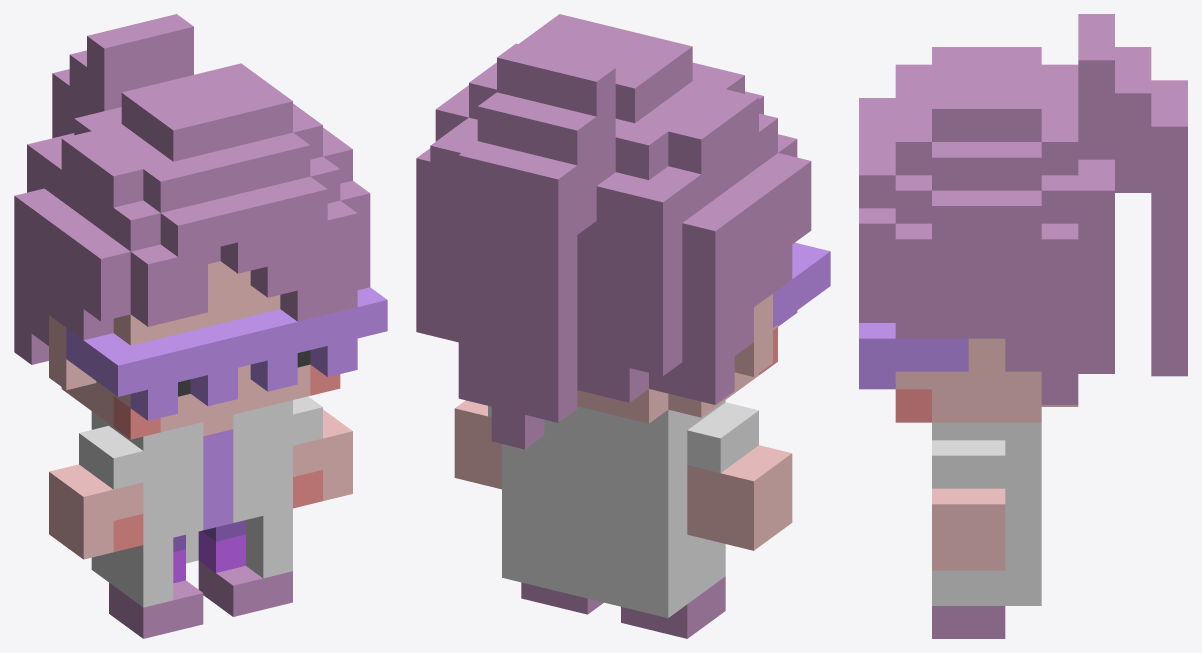
The model's file is character-1.glb.
The picture shows the model from 3 angles, left to right: view 1: azimuth 30°, elevation 25°; view 2: azimuth 150°, elevation 25°; view 3: azimuth 270°, elevation 25°; orthographic projection. The views are drawn at different scales.
Visible parts, largest first — view 1: Object_32; view 2: Object_32; view 3: Object_32.
Boxes of the visible parts, x1,y1,x2,y2 form: Object_32: (14,14,387,638); Object_32: (416,14,830,638); Object_32: (859,14,1187,638).
Size of the model in its own units: 0.9 by 1.7 by 0.9.
1 material, 1 textured.
